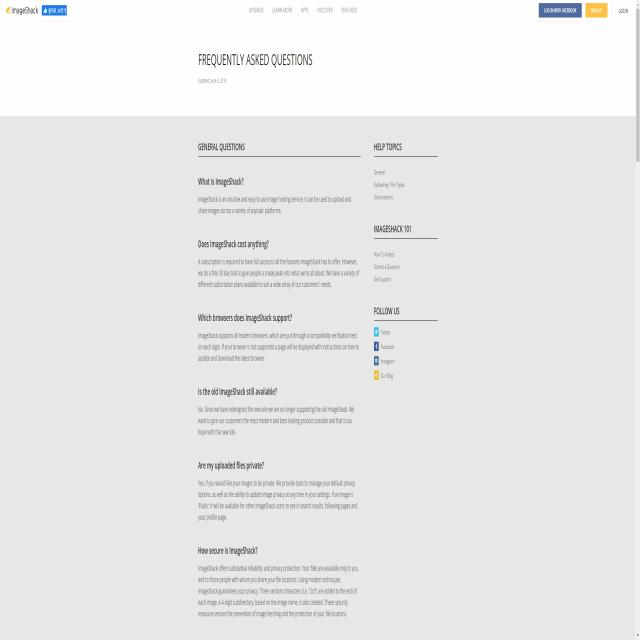menu-bar: (536, 2, 632, 22)
side-panel: (370, 131, 442, 405)
tab-bar: (246, 2, 360, 20)
